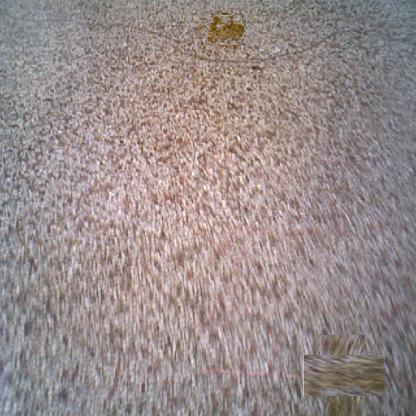liquid: (313, 345, 375, 406), (208, 13, 244, 48)
